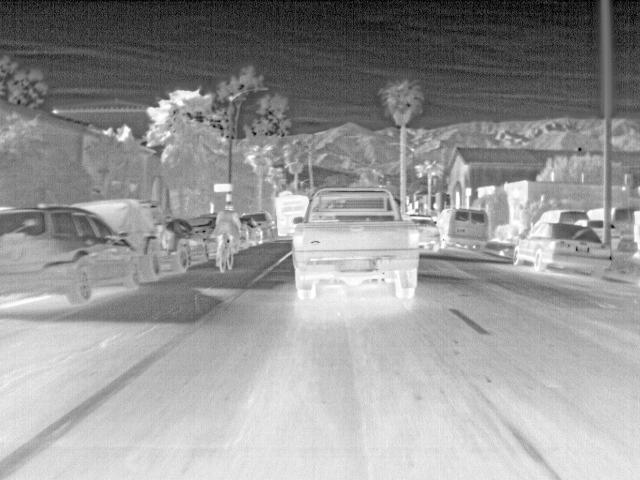car: (291, 186, 422, 302), (1, 204, 142, 306), (78, 197, 192, 279), (511, 223, 613, 279), (438, 207, 492, 252), (156, 222, 209, 266), (411, 216, 438, 250), (541, 207, 588, 224), (238, 218, 262, 248), (253, 213, 274, 239)
person: (216, 201, 238, 236)
